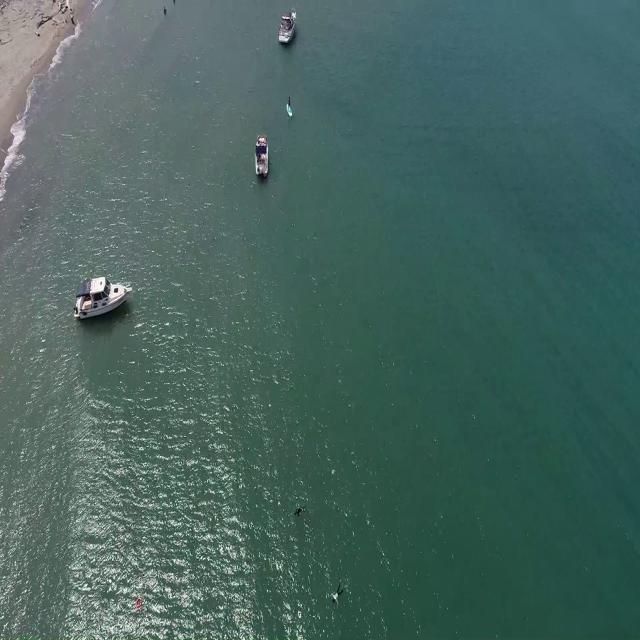boat: (75, 278, 130, 318), (254, 134, 272, 176), (278, 6, 296, 44)
life_buoy: (136, 596, 142, 609)
person: (330, 578, 346, 612), (294, 504, 308, 518), (162, 3, 170, 17), (287, 93, 293, 107)
surfboard: (285, 104, 294, 116)
